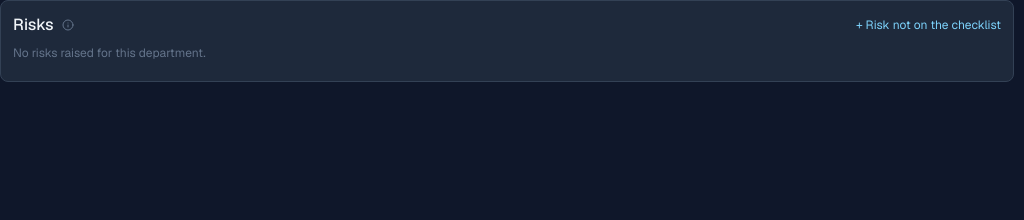
ConcernStrip in the assessment phase › will not send a risk whose type nobody picked
This screenshot has width=1024, height=220.
Click the button "+ Risk not on the checklist" at [928, 25], box [856,17,1001,33]
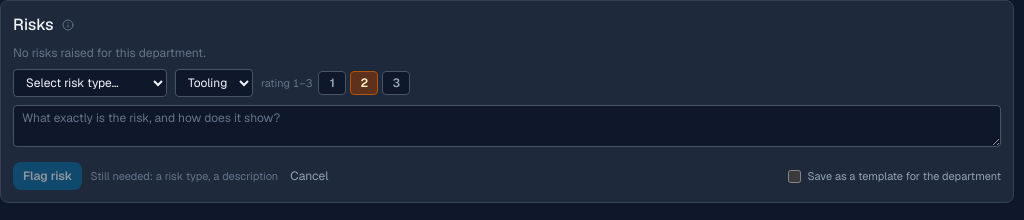
Type "something is off" into the text box with test id "risk-note" at [507, 126], box [13,105,1001,147]
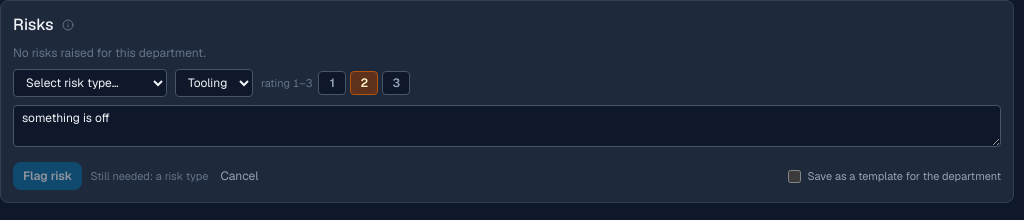
Select "Tooling" in the dropdown named "Department" at [214, 83], box [175,69,253,97]
Now the dropdown with test id "risk-type-select" shows "Select risk type…"
Now the button with test id "risk-submit" is disabled, box [13,162,82,190]
Select "Other" in the dropdown with test id "risk-type-select" at [90, 83], box [13,69,167,97]
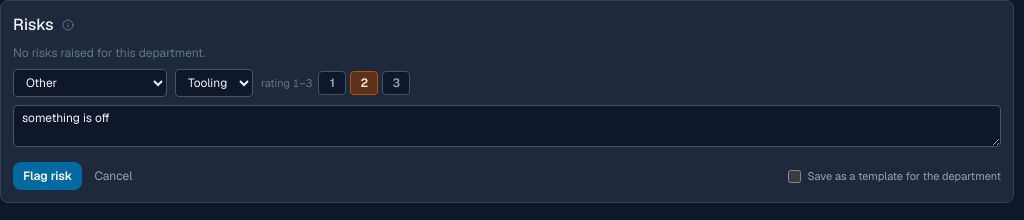
Now the button with test id "risk-submit" is enabled, box [13,162,82,190]
